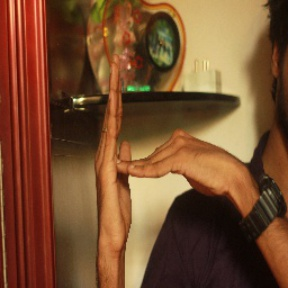Z: (84, 55, 232, 241)
